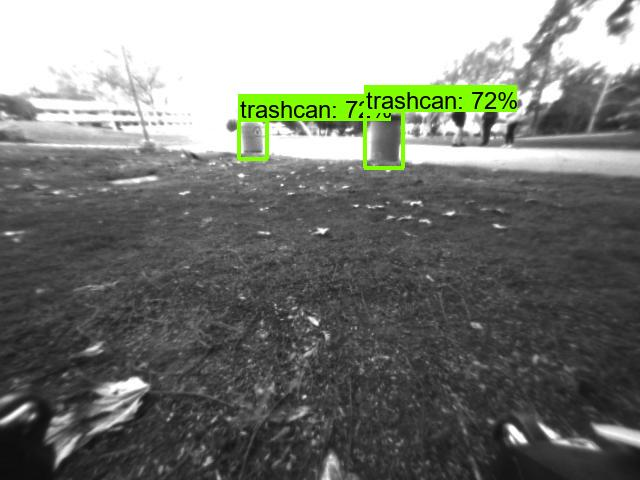trashcan: (371, 115, 400, 163), (238, 119, 267, 159)
